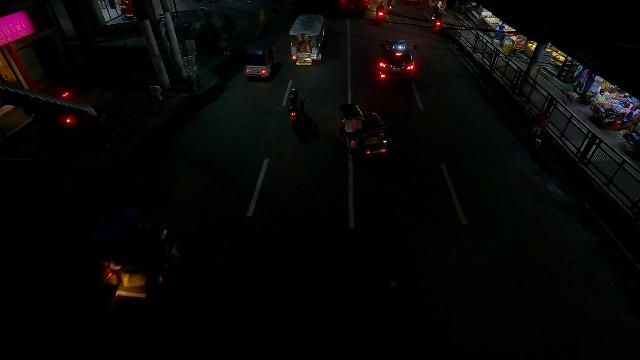car: (374, 37, 417, 84)
jeepney: (288, 13, 324, 67)
motorcycle: (287, 86, 306, 127), (431, 2, 443, 36), (374, 0, 386, 26)
